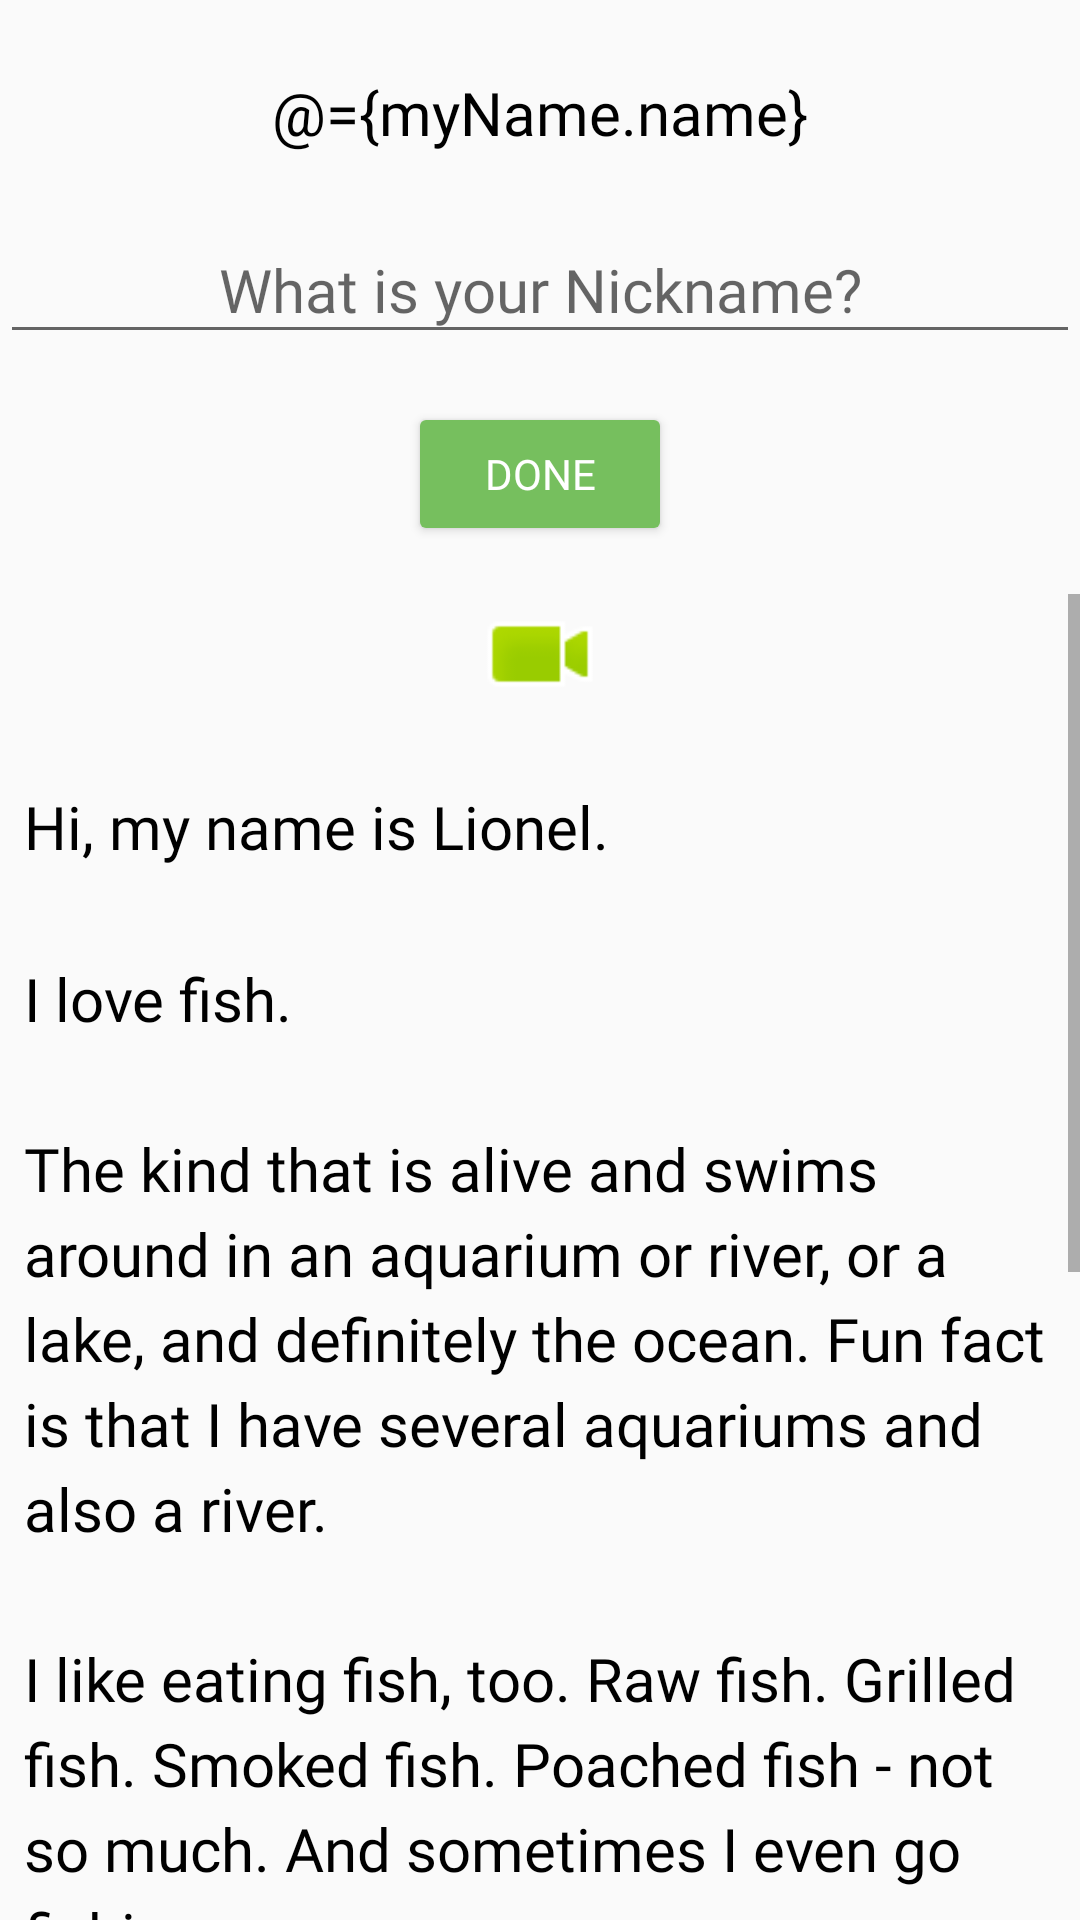

Screen size 1080*1920. Icon name, then its box in pixels as (x1, y1, x2, y2):
presence video online: (492, 626, 588, 682)
